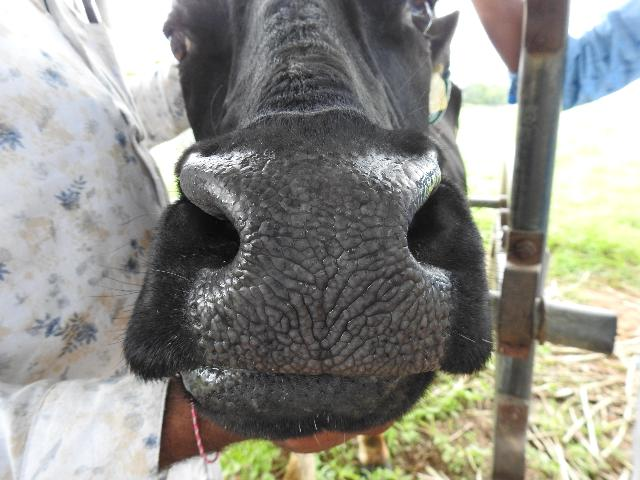Muzzle: (233, 166, 403, 354)
